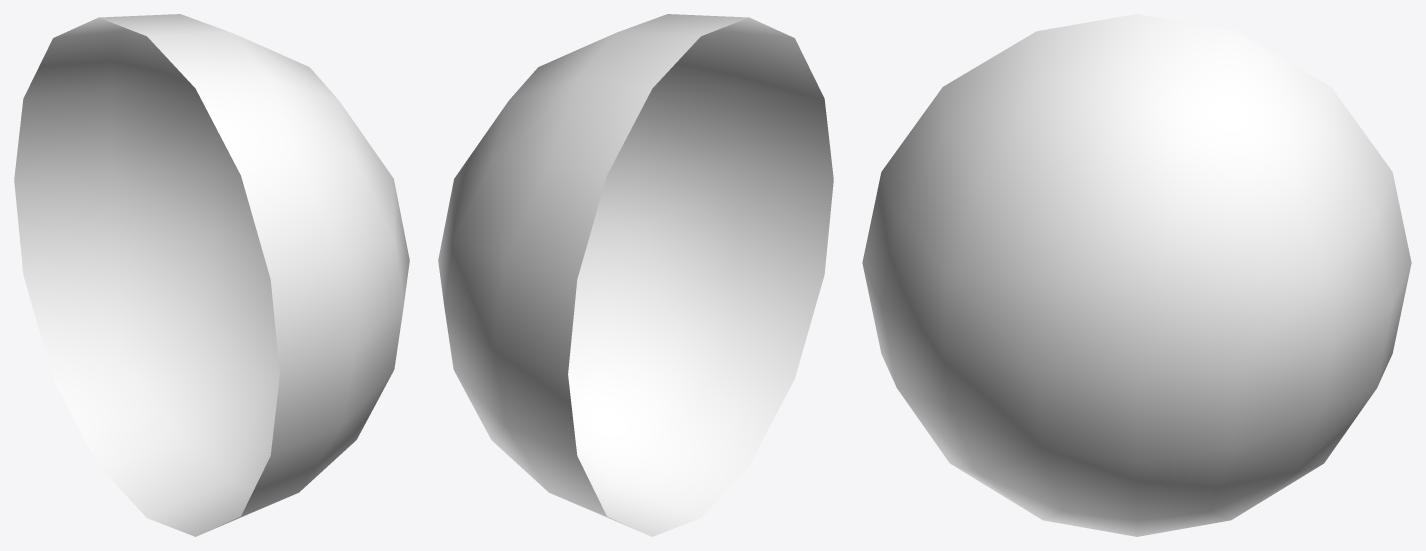
Rendered from bounceorb.obj.
3 renders of one model, left to right at view 1: azimuth 30°, elevation 25°; view 2: azimuth 150°, elevation 25°; view 3: azimuth 270°, elevation 25°, orthographic. The views are drawn at different scales.
Visible parts, largest first — view 1: Quadsphere; view 2: Quadsphere; view 3: Quadsphere.
Part boxes in pixels (box(x1,y1,x2,y2)): Quadsphere: box(14, 14, 409, 536); Quadsphere: box(438, 14, 833, 536); Quadsphere: box(862, 14, 1411, 536).
Bounding box in the file's own units: 1 × 2 × 2.
